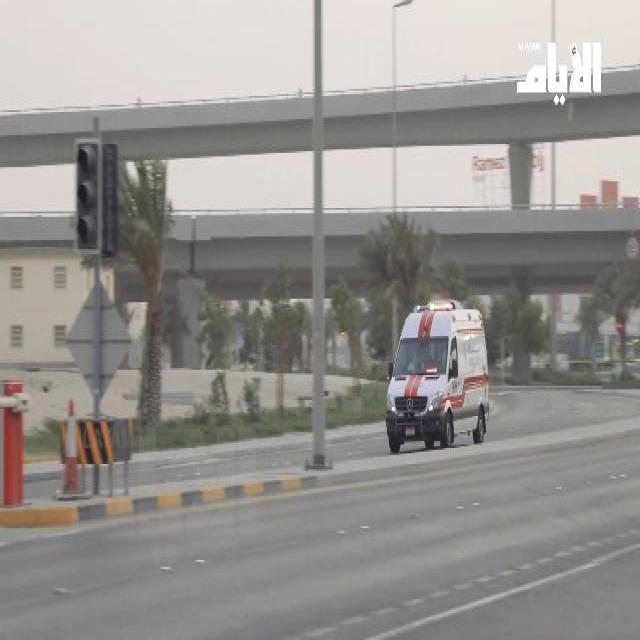emergency-vehicle: (386, 302, 488, 452)
